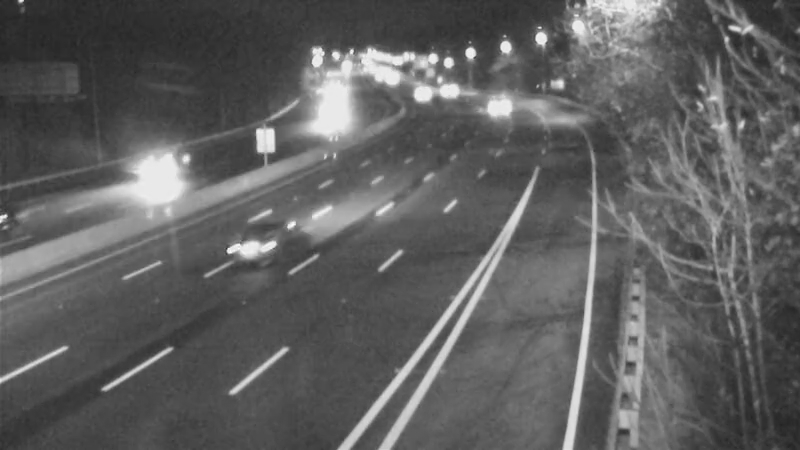vehicle: (210, 206, 290, 286), (110, 129, 190, 209), (1, 182, 67, 262), (394, 66, 444, 116), (425, 65, 475, 115), (464, 79, 514, 129)
